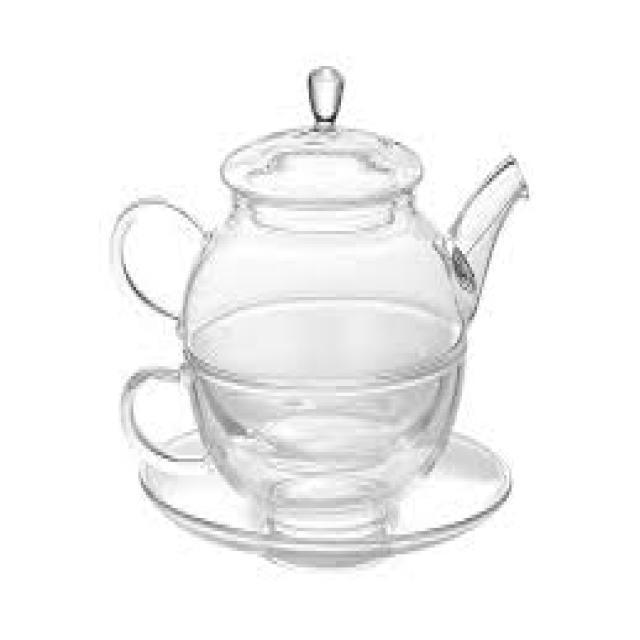Glass: (111, 67, 537, 530), (136, 427, 516, 571)
